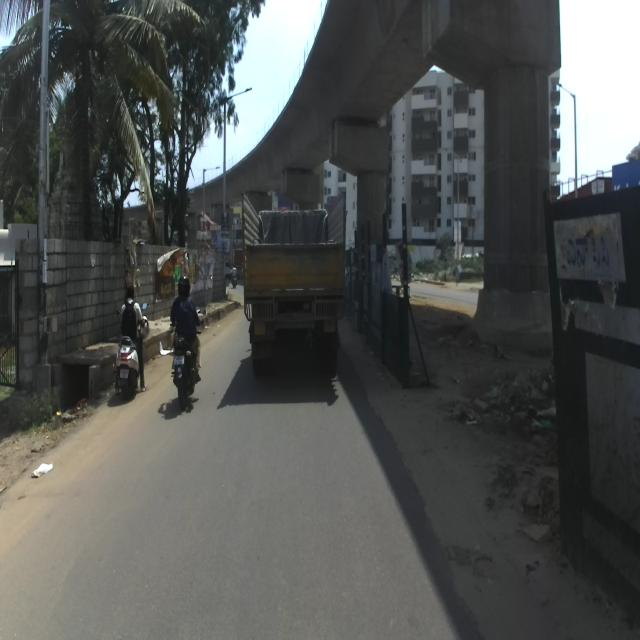motorcycle ahead at: (167, 335, 206, 403), (114, 334, 148, 396)
truck ahead at: (240, 200, 346, 376)
